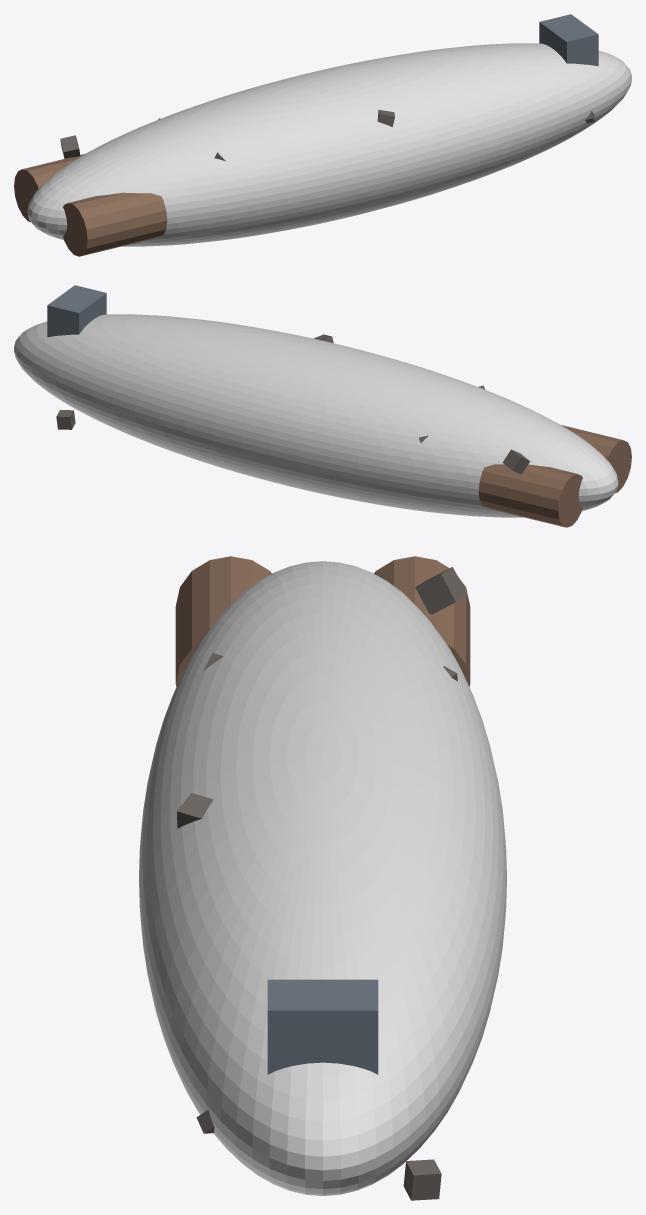
Rendered from landmark_mothership_wreck.glb.
3 renders of one model, top to bottom at view 1: azimuth 30°, elevation 25°; view 2: azimuth 150°, elevation 25°; view 3: azimuth 270°, elevation 25°, orthographic. The views are drawn at different scales.
Visible parts, largest first — view 1: MothershipHull, Engine_1, Bridge, Engine_2, Debris_19; view 2: MothershipHull, Engine_2, Bridge, Engine_1, Debris_19, Debris_15; view 3: MothershipHull, Bridge, Engine_1, Engine_2, Debris_19, Debris_15.
Boxes of the visible parts, x1,y1,x2,y2 form: MothershipHull: (27,43,631,246); Engine_1: (63,192,167,256); Bridge: (539,14,598,66); Engine_2: (14,154,84,222); Debris_19: (60,135,80,158); MothershipHull: (14,314,618,517); Engine_2: (478,464,582,527); Bridge: (47,285,106,337); Engine_1: (561,425,631,493); Debris_19: (502,449,529,474); Debris_15: (56,410,75,429); MothershipHull: (139,561,506,1195); Bridge: (267,979,378,1074); Engine_1: (175,556,271,686); Engine_2: (374,556,470,686); Debris_19: (415,567,467,614); Debris_15: (403,1159,441,1200).
Bounding box in the file's own units: 1500 × 300 × 400.
